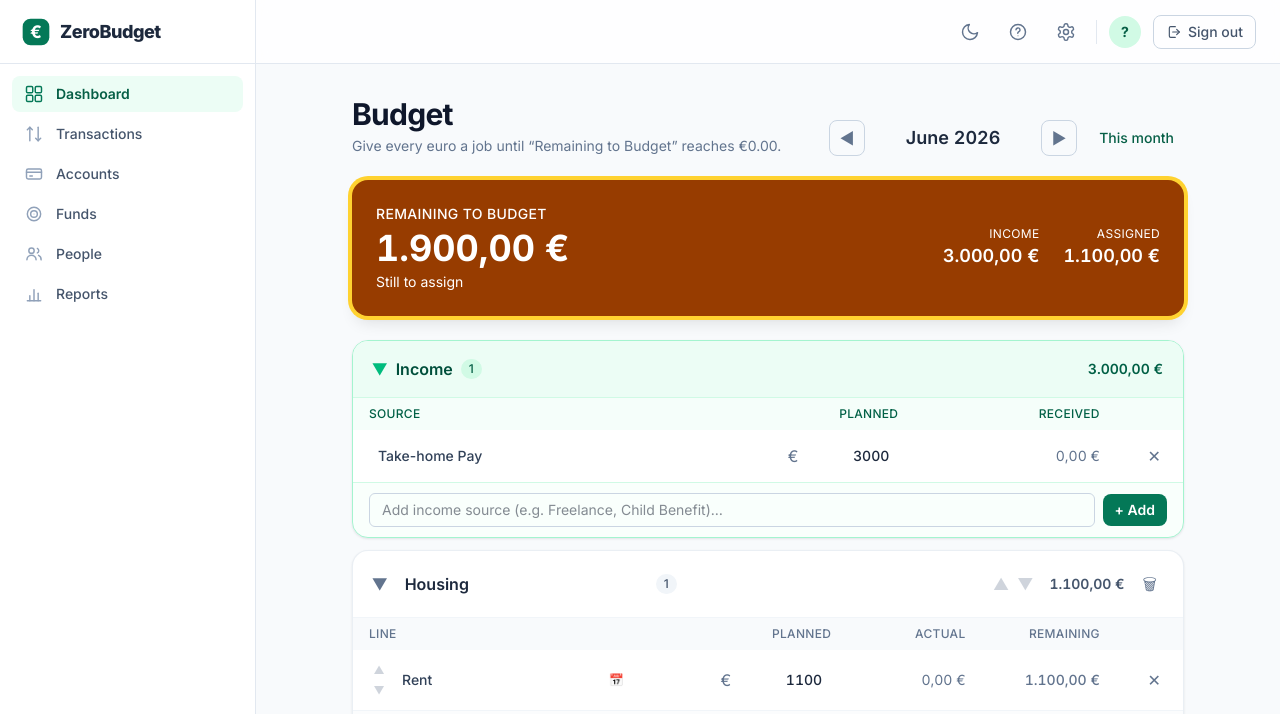
Scenario: DashboardPage optimistic editing › adds an income source and reconciles from the server response
Type "Freelance" into the field named "New income source name" at (732, 510), box [369, 493, 1095, 527]
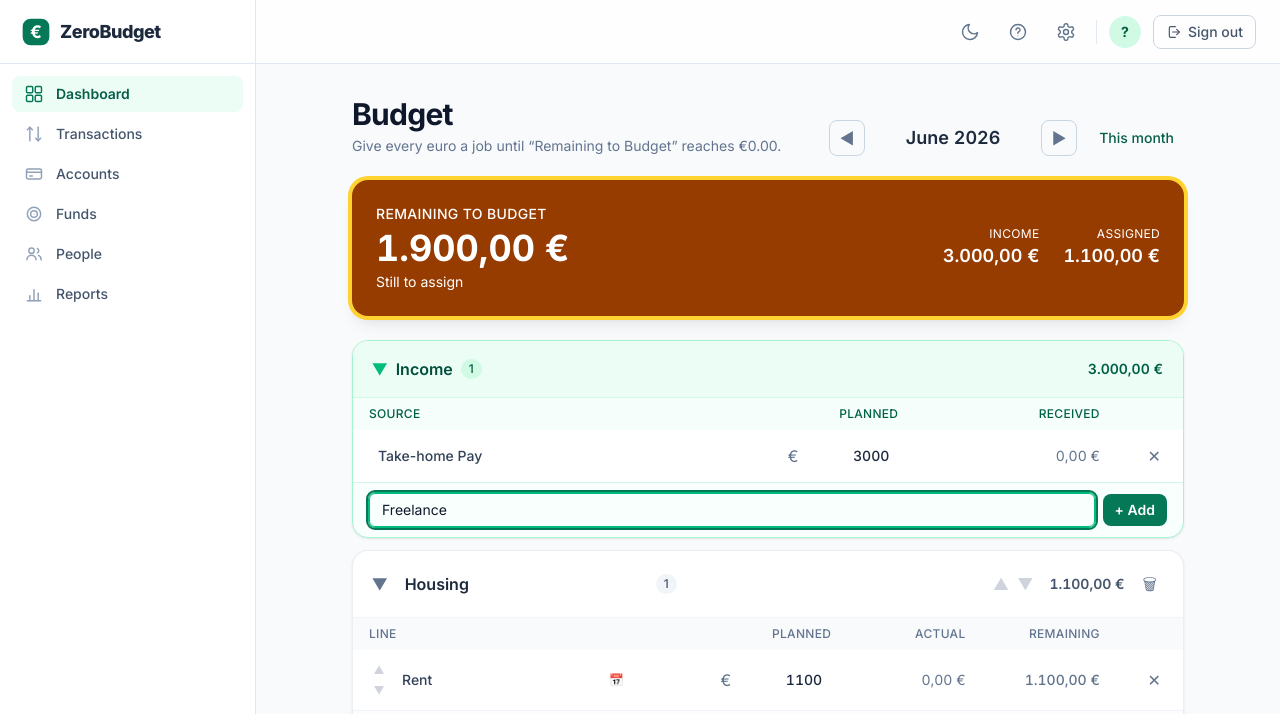
Click the button with aria-label "Add income source" at (1135, 510), box [1103, 494, 1167, 526]
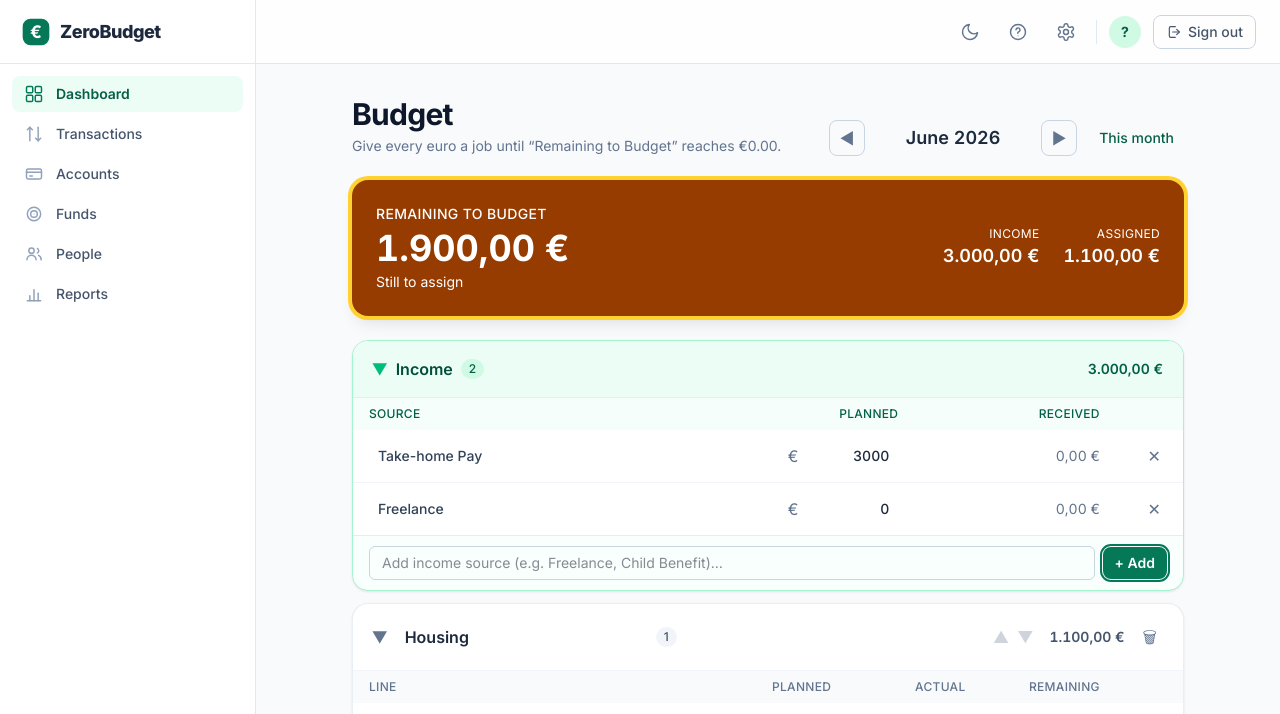
Result: the 2nd field showing "Freelance" is shown at [369, 494, 697, 524]
